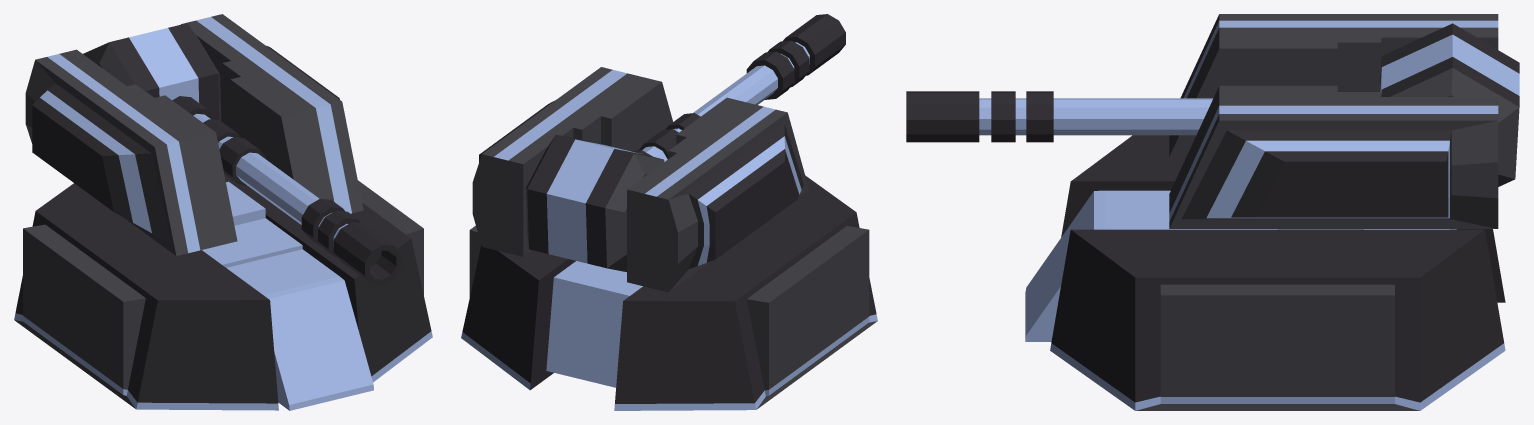
The model's file is enforcer.fbx.
The picture shows the model from 3 angles, left to right: view 1: azimuth 30°, elevation 25°; view 2: azimuth 150°, elevation 25°; view 3: azimuth 270°, elevation 25°; orthographic projection. The views are drawn at different scales.
Parts seen in each view (by area): view 1: Cube.056, Cube.057; view 2: Cube.056, Cube.057; view 3: Cube.056, Cube.057.
Part boxes in pixels (x1=…): Cube.056: x1=14, y1=174, x2=432, y2=410; Cube.057: x1=25, y1=14, x2=401, y2=284; Cube.056: x1=461, y1=175, x2=877, y2=410; Cube.057: x1=472, y1=14, x2=845, y2=292; Cube.056: x1=1025, y1=135, x2=1505, y2=410; Cube.057: x1=906, y1=14, x2=1519, y2=228.
Size of the model in its own units: 176 by 135 by 267.
